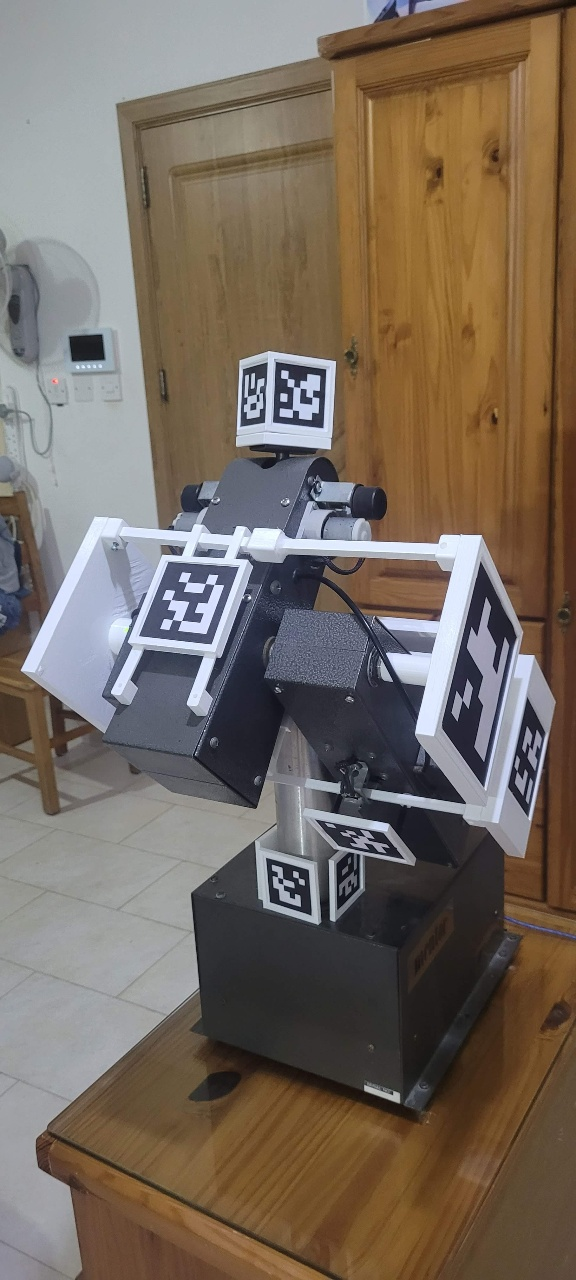Robot: (78, 244, 480, 1064)
